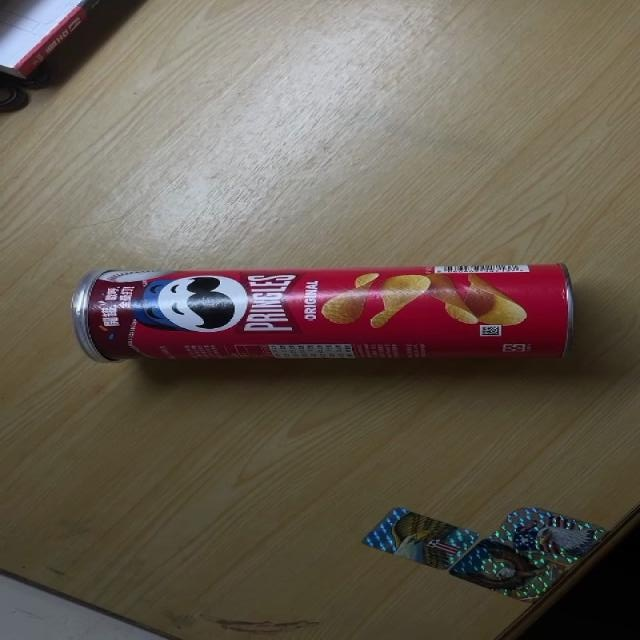Pringles: (71, 263, 574, 362)
